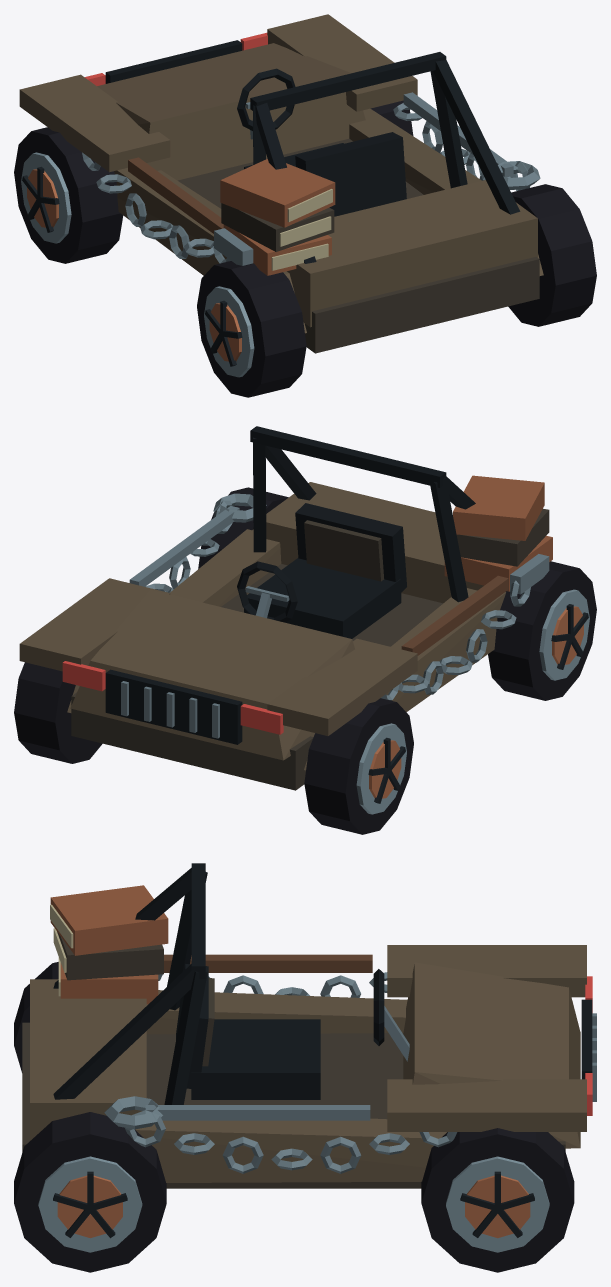
Rendered from kart.glb.
3 views of the same model, one above another, from view 1: azimuth 30°, elevation 25°; view 2: azimuth 150°, elevation 25°; view 3: azimuth 270°, elevation 25° (orthographic). The views are drawn at different scales.
Parts seen in each view (by area): view 1: identity-jeep-jeep-offroad-frame, wheel-rear-left, wheel-front-left, identity-jeep-motif-books, wheel-rear-right, identity-jeep-driver-cockpit, identity-jeep-motif-tools, identity-jeep-motif-chains, wheel-front-right; view 2: identity-jeep-jeep-offroad-frame, identity-jeep-driver-cockpit, wheel-front-left, wheel-rear-left, identity-jeep-motif-books, identity-jeep-motif-tools, wheel-front-right, identity-jeep-motif-chains, wheel-rear-right; view 3: identity-jeep-jeep-offroad-frame, wheel-rear-right, wheel-front-right, identity-jeep-driver-cockpit, identity-jeep-motif-books, identity-jeep-motif-tools, identity-jeep-motif-chains, wheel-rear-left.
Part boxes in pixels (x1,y1,x2,y2): identity-jeep-jeep-offroad-frame: [19, 14, 543, 353]; wheel-rear-left: [197, 261, 306, 397]; wheel-front-left: [14, 127, 123, 263]; identity-jeep-motif-books: [220, 159, 335, 275]; wheel-rear-right: [508, 184, 596, 326]; identity-jeep-driver-cockpit: [237, 68, 406, 216]; identity-jeep-motif-tools: [128, 92, 540, 265]; identity-jeep-motif-chains: [82, 103, 530, 263]; wheel-front-right: [370, 100, 413, 135]; identity-jeep-jeep-offroad-frame: [19, 426, 505, 790]; identity-jeep-driver-cockpit: [237, 503, 406, 638]; wheel-front-left: [304, 698, 413, 834]; wheel-rear-left: [488, 561, 596, 700]; identity-jeep-motif-books: [444, 475, 552, 591]; identity-jeep-motif-tools: [129, 493, 549, 655]; wheel-front-right: [14, 662, 102, 763]; identity-jeep-motif-chains: [145, 500, 530, 700]; wheel-rear-right: [198, 487, 288, 569]; identity-jeep-jeep-offroad-frame: [22, 863, 596, 1188]; wheel-rear-right: [14, 1112, 166, 1272]; wheel-front-right: [421, 1128, 574, 1272]; identity-jeep-driver-cockpit: [176, 964, 409, 1099]; identity-jeep-motif-books: [50, 885, 168, 1004]; identity-jeep-motif-tools: [104, 954, 372, 1129]; identity-jeep-motif-chains: [125, 972, 457, 1173]; wheel-rear-left: [14, 962, 58, 1072].
Bounding box in the file's own units: 2.13 × 1.39 × 2.75.
